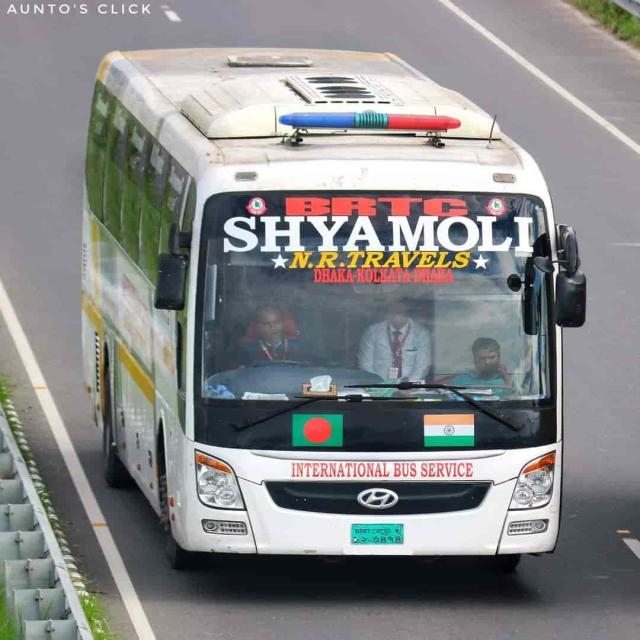bus: (82, 49, 585, 566)
